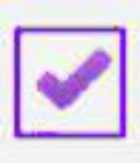CheckBox: (1, 1, 139, 162)
